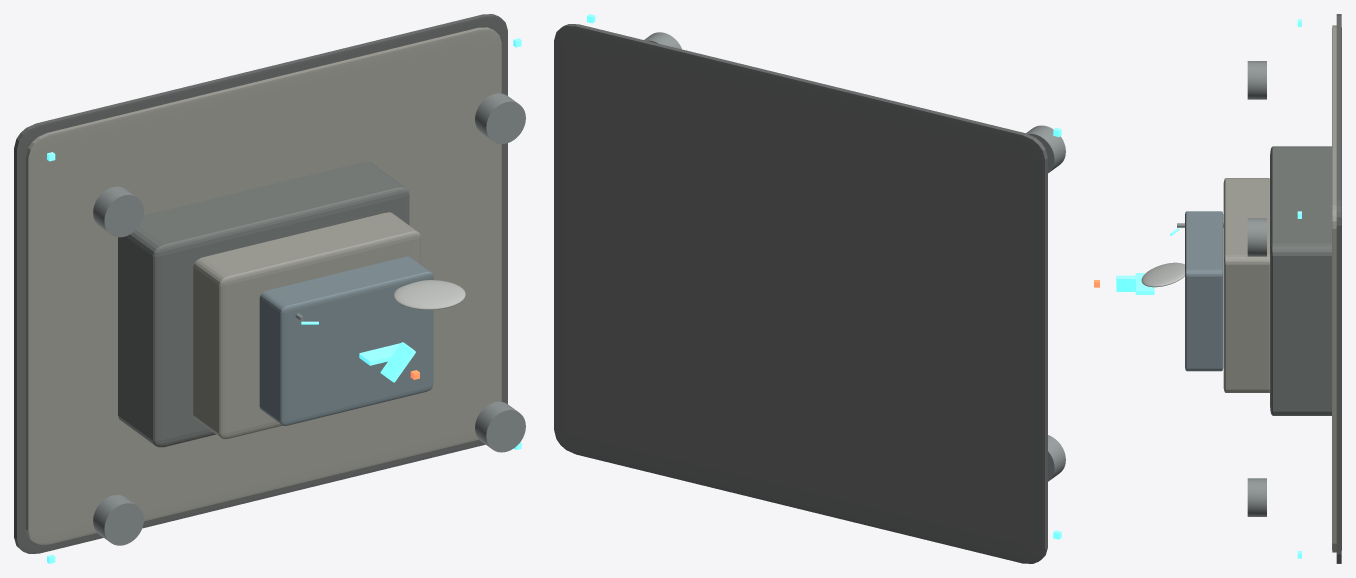
Rendered from b-01-command-center-lod2.glb.
3 views of the same model, side by side, from view 1: azimuth 30°, elevation 25°; view 2: azimuth 150°, elevation 25°; view 3: azimuth 270°, elevation 25° (orthographic). The views are drawn at different scales.
Parts seen in each view (by area): view 1: foundation_inner_pad, command_block_lower, command_block_upper, command_block_middle, foundation, watch_cupola_7_-5.4, watch_cupola_-7_5.4, watch_cupola_-7_-5.4, watch_cupola_7_5.4, hq_dish_large_dish, hq_comm_mast_array_2; view 2: foundation, watch_cupola_-7_5.4; view 3: command_block_lower, command_block_middle, command_block_upper, foundation, foundation_inner_pad, hq_dish_large_dish, watch_cupola_-7_5.4, watch_cupola_7_-5.4, watch_cupola_7_5.4, hq_comm_mast_array_2.
Boxes of the visible parts, x1,y1,x2,y2 form: foundation_inner_pad: [26, 27, 501, 544]; command_block_lower: [118, 161, 409, 447]; command_block_upper: [259, 256, 433, 425]; command_block_middle: [193, 212, 420, 439]; foundation: [14, 14, 507, 553]; watch_cupola_7_-5.4: [475, 401, 525, 452]; watch_cupola_-7_5.4: [93, 186, 143, 237]; watch_cupola_-7_-5.4: [93, 495, 143, 545]; watch_cupola_7_5.4: [475, 93, 525, 144]; hq_dish_large_dish: [393, 280, 465, 309]; hq_comm_mast_array_2: [380, 342, 415, 382]; foundation: [554, 24, 1047, 563]; watch_cupola_-7_5.4: [1026, 125, 1065, 173]; command_block_lower: [1270, 146, 1331, 415]; command_block_middle: [1223, 178, 1269, 392]; command_block_upper: [1185, 211, 1223, 371]; foundation: [1336, 14, 1341, 563]; foundation_inner_pad: [1332, 25, 1336, 552]; hq_dish_large_dish: [1141, 262, 1184, 287]; watch_cupola_-7_5.4: [1247, 61, 1266, 99]; watch_cupola_7_-5.4: [1247, 478, 1266, 516]; watch_cupola_7_5.4: [1247, 218, 1266, 256]; hq_comm_mast_array_2: [1116, 275, 1135, 291].
Size of what is drawn, in the model's own units: 18 by 15 by 9.32.
